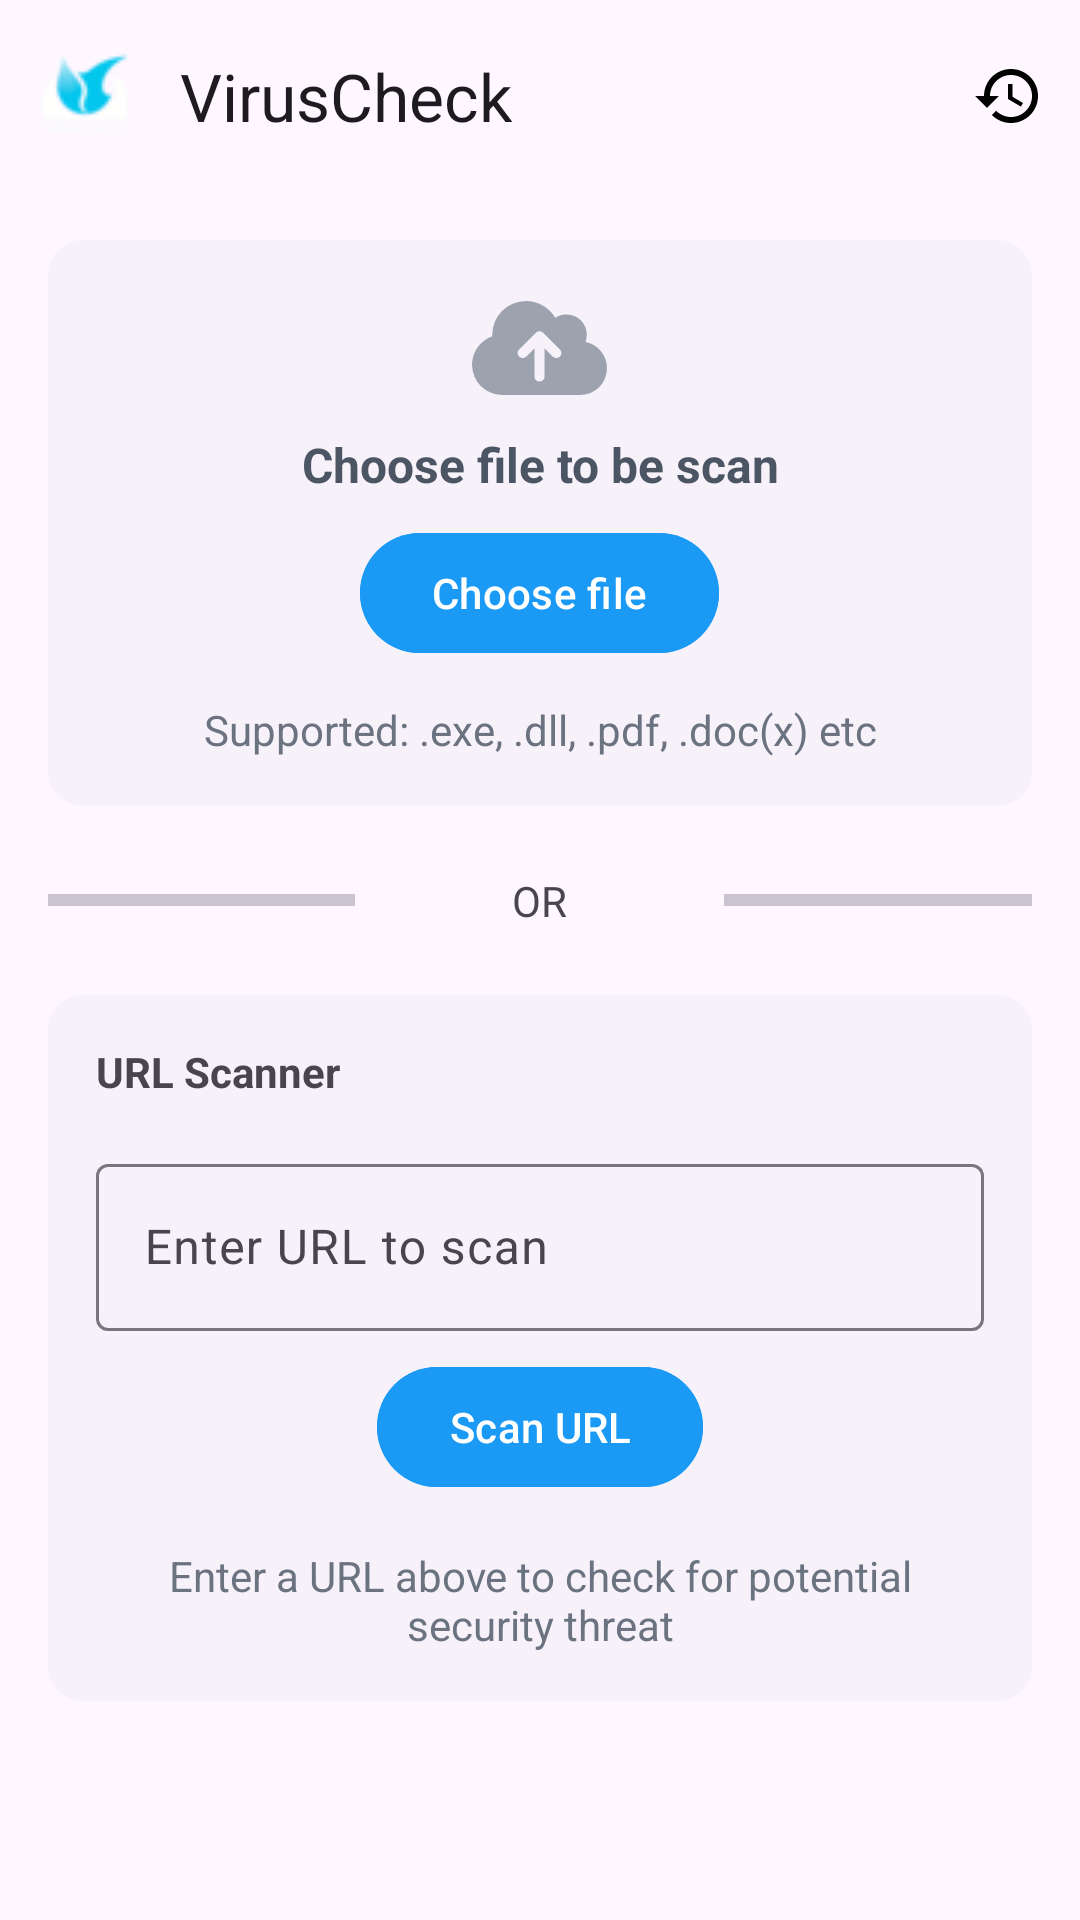

Screen size 1080*1920. Icon name, then its center in pixels as (x=x, y=y):
file upload: (x=539, y=348)
